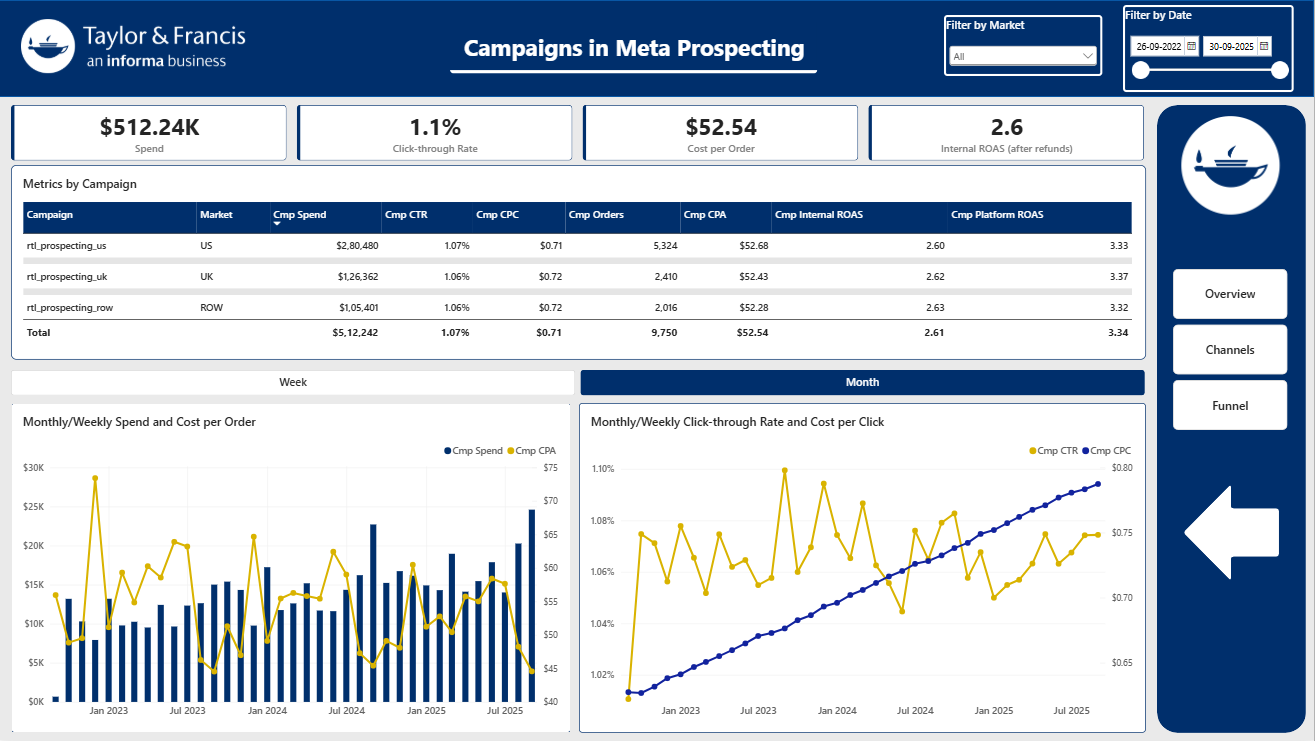

The page's visual inventory and layout, read from the dashboard file:
{"tool":"powerbi","page":{"name":"Campaign Details","canvas":[1920,1080],"ordinal":2},"visuals":[{"type":"shape","box":[0,0,1920,141.5],"z":0},{"type":"image","box":[32.1,8.8,327.4,117.4],"z":1000},{"type":"shape","box":[1689.1,153.4,217.5,916.1],"z":2000},{"type":"image","box":[1707,169.8,181.7,143.8],"z":3000},{"type":"cardVisual","fields":{"Data":["_Measures.Campaign Page Title"]},"box":[658,26.3,536.9,81.7],"z":4000},{"type":"slicer","title":"Filter by Date","fields":{"Values":["Date.Date"]},"box":[1640,7.4,248.8,126.6],"z":5000},{"type":"slicer","title":"Filter by Market","fields":{"Values":["Market.market_name"]},"box":[1379.3,22.3,230.9,89],"z":6000},{"type":"tableEx","title":"Metrics by Campaign","fields":{"Values":["campaign_weekly.campaign","Market.market","_Measures.Cmp Spend","_Measures.Cmp CTR","_Measures.Cmp CPC","_Measures.Cmp Orders","_Measures.Cmp CPA","_Measures.Cmp Internal ROAS","_Measures.Cmp Platform ROAS"]},"box":[17.5,240.7,1655.9,284.5],"z":7000},{"type":"actionButton","box":[1727.4,706.1,140.1,141.5],"z":8000},{"type":"cardVisual","fields":{"Data":["_Measures.Cmp Spend","_Measures.Cmp CTR","_Measures.Cmp CPA","_Measures.Cmp Internal ROAS"]},"box":[17.9,153.4,1656.4,81.9],"z":9000},{"type":"lineClusteredColumnComboChart","title":"Monthly/Weekly Spend and Cost per Order","fields":{"Category":["Date.Month Start"],"Y":["_Measures.Cmp Spend"],"Y2":["_Measures.Cmp CPA"]},"box":[17.5,588,817,481.5],"z":10000},{"type":"advancedSlicerVisual","fields":{"Values":["Trend Period.Trend Period"]},"box":[17.5,539.8,1655.9,37.9],"z":11000},{"type":"lineChart","title":"Monthly/Weekly Click-through Rate and Cost per Click","fields":{"Category":["Date.Month Start"],"Y":["_Measures.Cmp CTR"],"Y2":["_Measures.Cmp CPC"]},"box":[846.2,588,827.2,481.5],"z":12000},{"type":"pageNavigator","box":[1712.8,392.5,167.8,236.4],"z":13000}]}

Visuals, with their boxes in screenshot pixels (x1, y1, x2, y2), scaled from the page's 1920x1080 canvas onto the 1315x741 screenshot:
shape: (left=0, top=0, right=1314, bottom=97)
image: (left=22, top=6, right=246, bottom=87)
shape: (left=1157, top=105, right=1306, bottom=734)
image: (left=1169, top=117, right=1294, bottom=215)
cardVisual - _Measures.Campaign Page Title: (left=451, top=18, right=818, bottom=74)
"Filter by Date" slicer: (left=1123, top=5, right=1294, bottom=92)
"Filter by Market" slicer: (left=945, top=15, right=1103, bottom=76)
"Metrics by Campaign" tableEx: (left=12, top=165, right=1146, bottom=360)
actionButton: (left=1183, top=484, right=1279, bottom=582)
cardVisual - _Measures.Cmp Spend x _Measures.Cmp CTR: (left=12, top=105, right=1147, bottom=161)
"Monthly/Weekly Spend and Cost per Order" lineClusteredColumnComboChart: (left=12, top=403, right=572, bottom=734)
advancedSlicerVisual - Trend Period.Trend Period: (left=12, top=370, right=1146, bottom=396)
"Monthly/Weekly Click-through Rate and Cost per Click" lineChart: (left=580, top=403, right=1146, bottom=734)
pageNavigator: (left=1173, top=269, right=1288, bottom=431)
